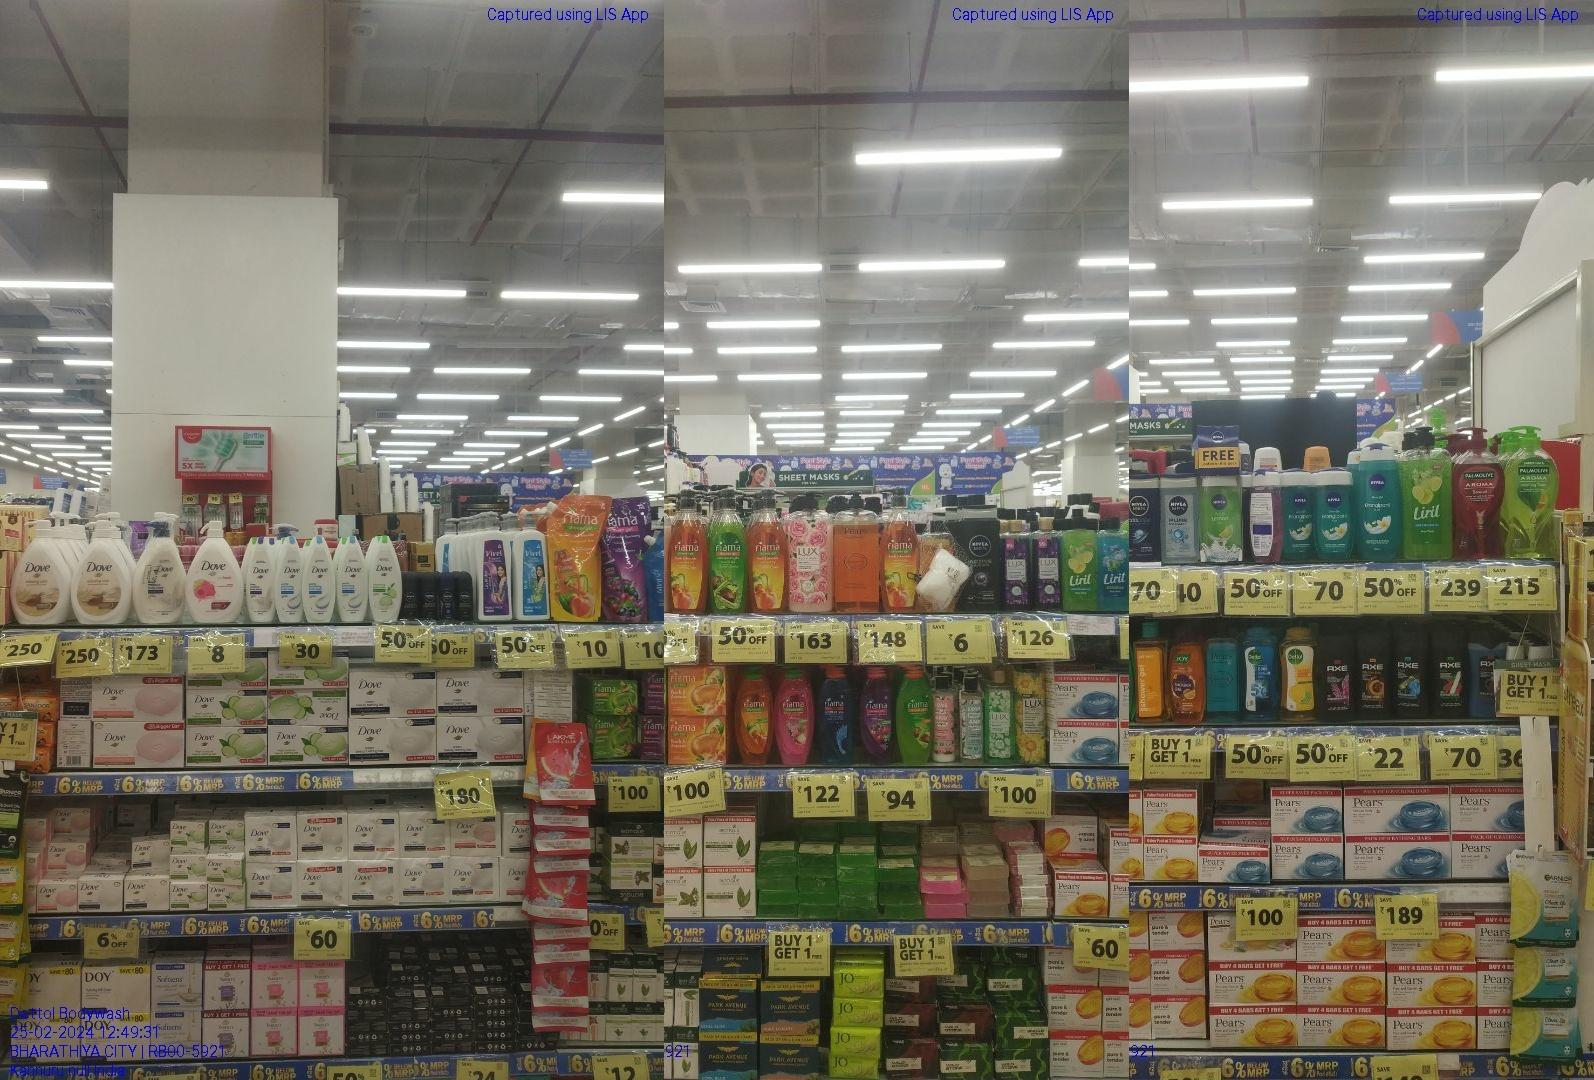Dettol_Bodywash_Cool: (1245, 624, 1280, 720)
Dettol_Bodywash_Refresh: (1282, 624, 1318, 722)
Dove_Deep_Moisture_Body_Wash_250ML: (247, 538, 276, 624)
Dove_Gentle_Exfoliating_Body_Wash_250ML: (304, 534, 334, 624), (339, 536, 366, 624), (277, 536, 304, 624)
Dove_Refreshing_Body_Wash_250ML: (369, 536, 401, 622)
Fiama_Shower_Gel_Lemongrass_and_Jojoba_250ML: (898, 667, 934, 767)
Fiama_Shower_Gel_Patchouli_and_Macadamia_250ML: (774, 667, 816, 764)
Fiama_Shower_Gel_Peach_and_Avocado_250ML: (737, 667, 774, 765)
Joy_Shower_Gel_Mandarin_and_Lemongrass_250ML: (1166, 623, 1206, 724)
Liril_Cooling_Mint_Body_Wash_250ML: (1099, 517, 1130, 612)
Liril_Lime_and_Tea_Tree_Oil_Body_Wash_250ML: (1065, 518, 1100, 612)
Lux_Black_Orchid_Scent_and_Juniper_Oil_Body_Wash_245ML: (1001, 520, 1033, 611), (1034, 517, 1061, 612)
Lux_Body_Wash_Skin_Detox_Freesia_Scent_and_Alove_Vera_245ML: (984, 670, 1014, 761)
Nivea_Shower_Gel_Frangipani_and_Oil_250ML: (1358, 445, 1399, 562), (1316, 470, 1354, 562), (1284, 472, 1316, 560)
Nivea_Shower_Gel_Lemon_and_Oil_250ML: (1202, 475, 1242, 565)
Pears_Pure_Glycerin_and_Mint_Extracts_Body_Wash_250ML: (1208, 621, 1241, 721)
